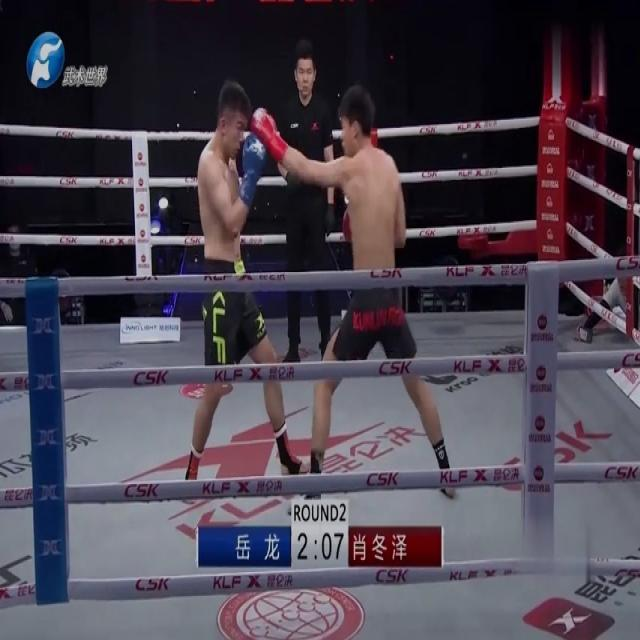fight: (182, 79, 454, 513)
non-fight: (278, 51, 336, 372), (578, 250, 639, 346)
